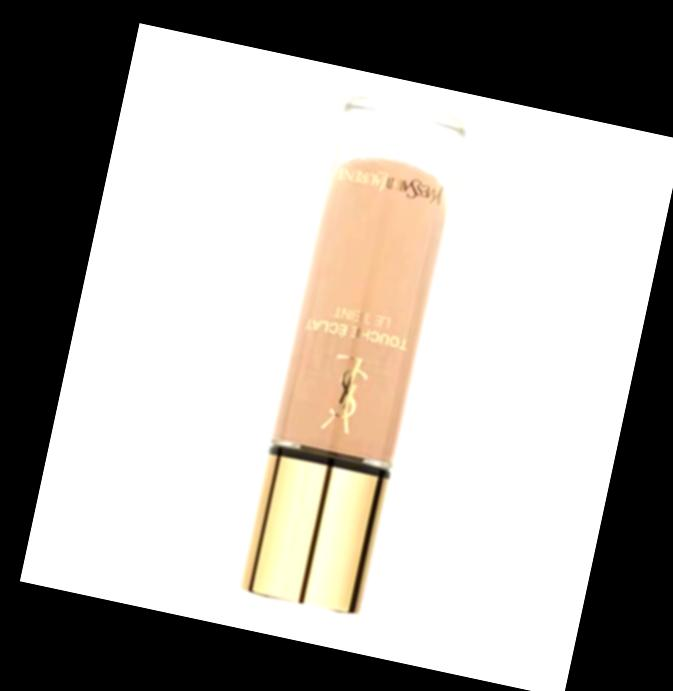cosmetic: (231, 90, 469, 620)
